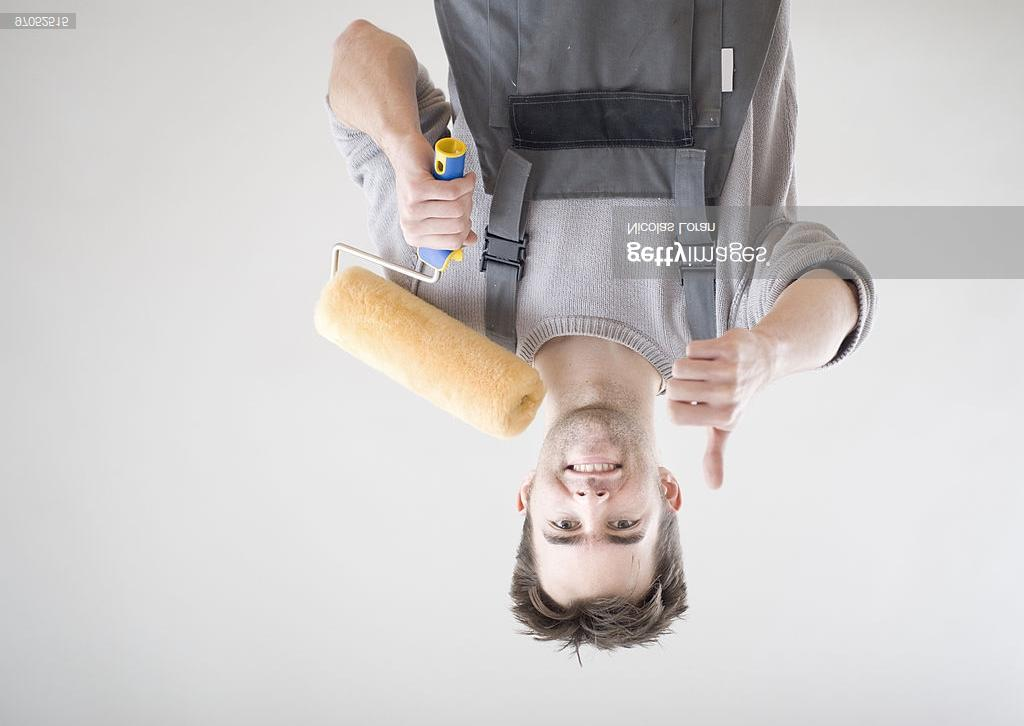thumbsdown: (665, 338, 739, 491)
